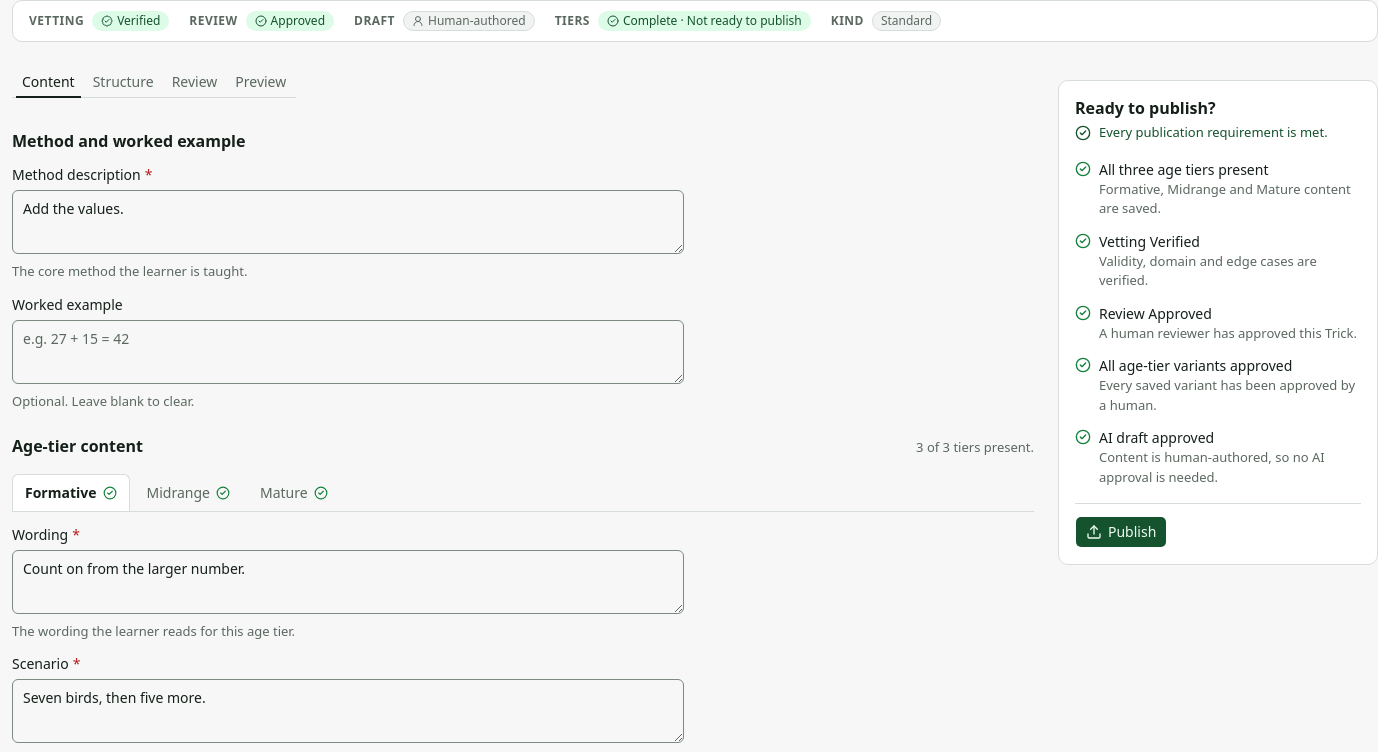
Test: Trick publication flow › publishes a ready Trick and reflects the server state
Click the button "Publish".
click(1121, 532)  # box [1075,516,1167,548]
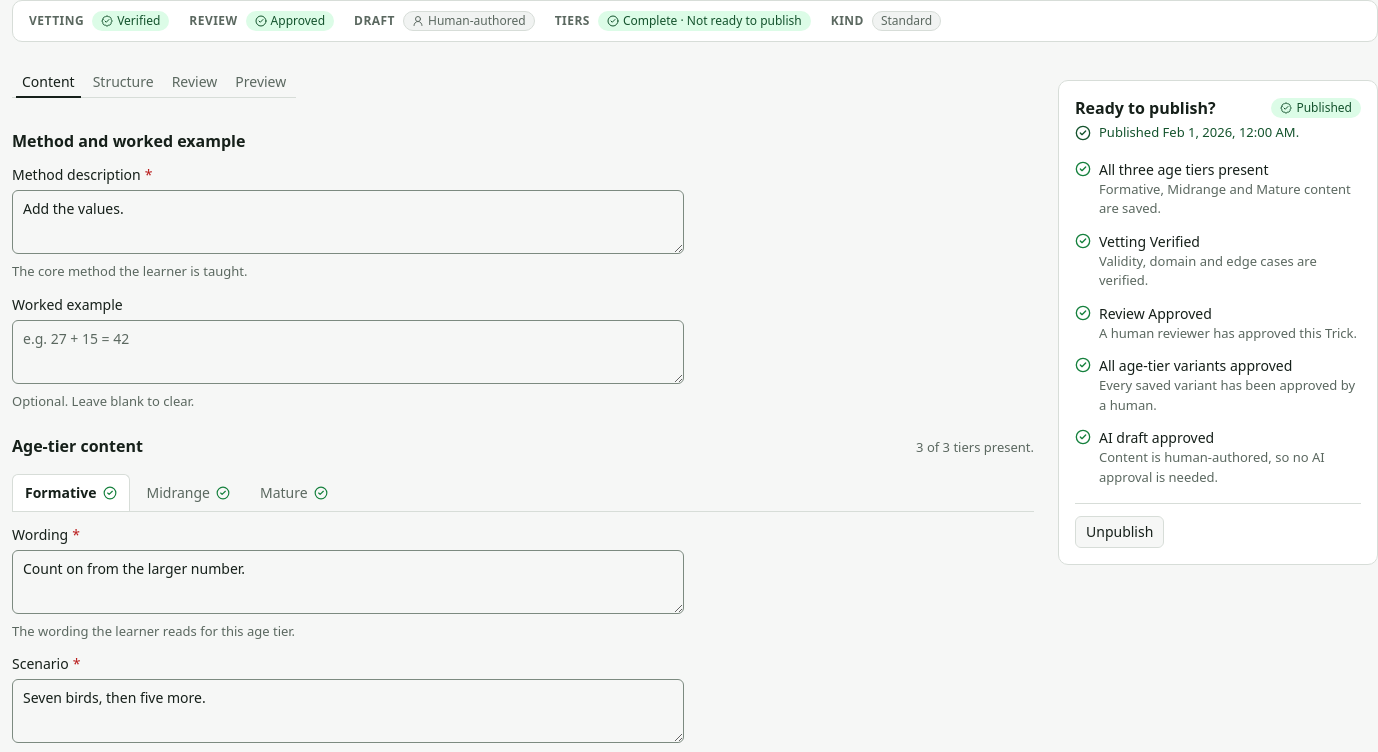
Now the text "Published" is shown, box [1271,98,1361,118]
